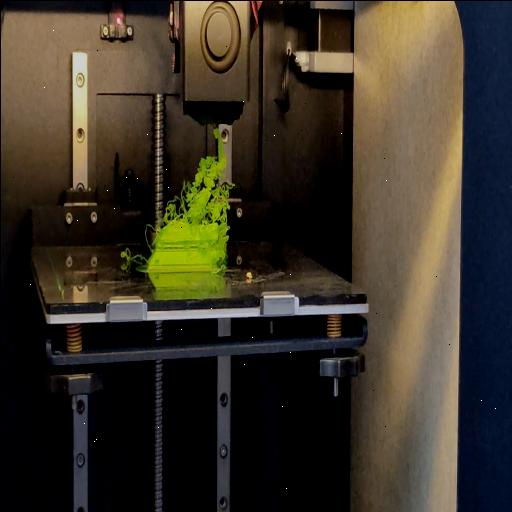spaghetti: (162, 126, 228, 230), (218, 230, 228, 276), (120, 248, 144, 266), (143, 222, 155, 252)
